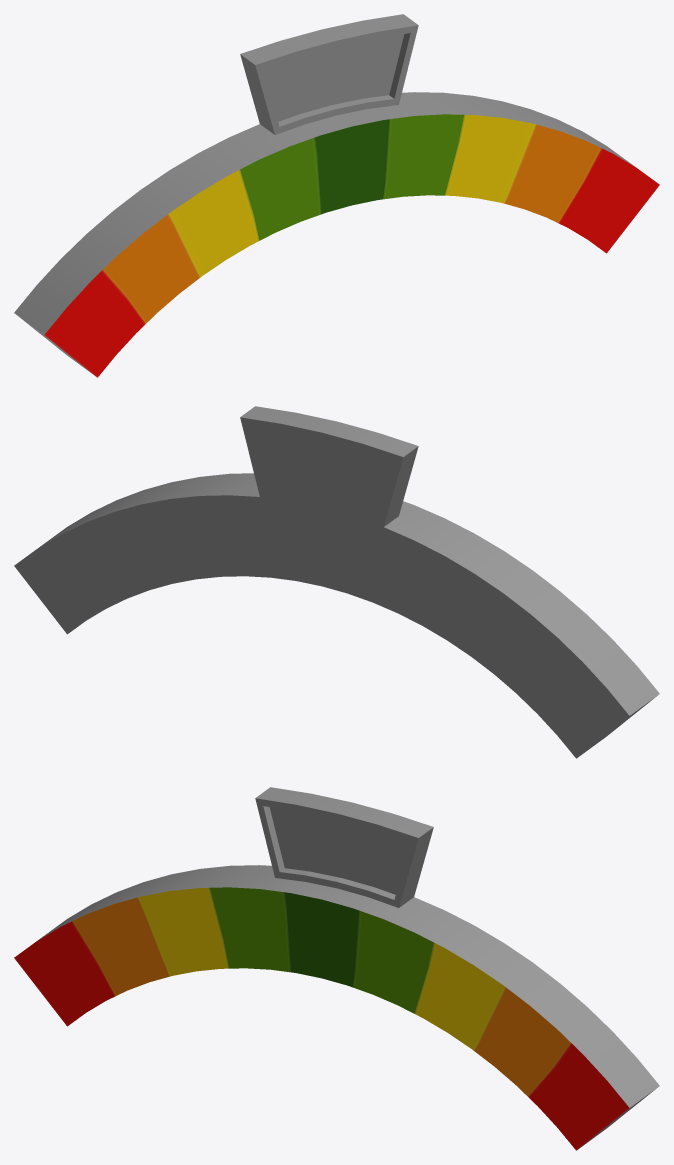
The model's file is meter_board.FBX.
3 views of the same model, one above another, from view 1: azimuth 30°, elevation 25°; view 2: azimuth 150°, elevation 25°; view 3: azimuth 330°, elevation 25° (orthographic).
Visible parts, largest first — view 1: Object001, Box001; view 2: Box001; view 3: Object001, Box001.
Part boxes in pixels (box(x1,y1,x2,y2)): Object001: box(44, 114, 659, 377); Box001: box(14, 14, 635, 376); Box001: box(14, 406, 659, 758); Object001: box(14, 887, 629, 1150); Box001: box(38, 787, 659, 1149).
Bounding box in the file's own units: 199 × 81.39 × 16.95.
Materials: 2 (1 with a texture image).
